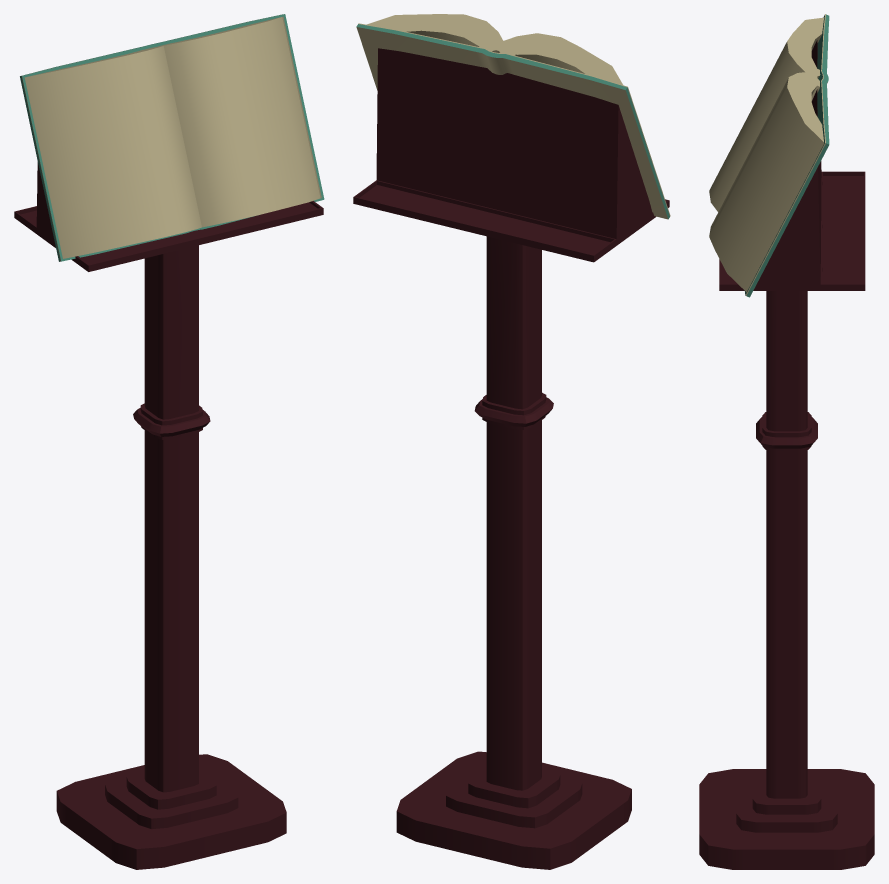
File: Leggio+Book 1.fbx
3 views of the same model, side by side, from view 1: azimuth 30°, elevation 25°; view 2: azimuth 150°, elevation 25°; view 3: azimuth 270°, elevation 25° (orthographic). The views are drawn at different scales.
Visible parts, largest first — view 1: Book 1, Leggio; view 2: Leggio, Book 1; view 3: Leggio, Book 1.
Boxes of the visible parts, box(x1,y1,x2,y2) form: Book 1: box(20, 14, 324, 261); Leggio: box(14, 162, 323, 869); Leggio: box(353, 48, 669, 869); Book 1: box(356, 14, 670, 219); Leggio: box(699, 40, 874, 869); Book 1: box(709, 14, 829, 297).
Bounding box in the file's own units: 99.01 × 278 × 57.59.
